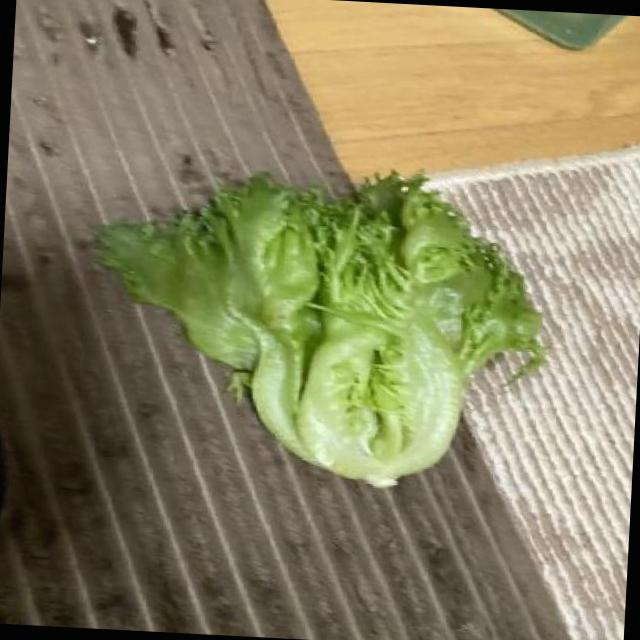Lettuce-Ready-to-Harvest: (101, 175, 543, 486)
